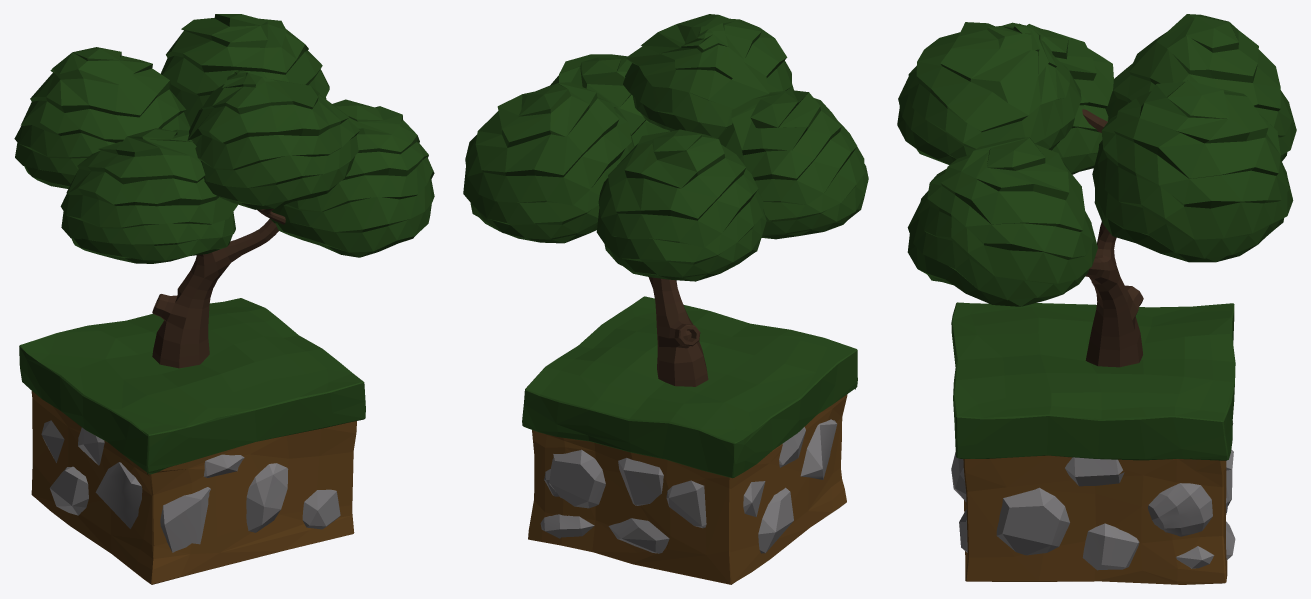
Rendered from tile_tree.gltf.
3 views of the same model, side by side, from view 1: azimuth 30°, elevation 25°; view 2: azimuth 150°, elevation 25°; view 3: azimuth 270°, elevation 25° (orthographic). The views are drawn at different scales.
Parts seen in each view (by area): view 1: Cube.003, hill.003; view 2: Cube.003, hill.003; view 3: Cube.003, hill.003.
Part boxes in pixels (left/top/right/bottom): Cube.003: left=14, top=14, right=434, bottom=368; hill.003: left=19, top=298, right=365, bottom=584; Cube.003: left=463, top=14, right=868, bottom=386; hill.003: left=522, top=296, right=857, bottom=584; Cube.003: left=897, top=14, right=1296, bottom=367; hill.003: left=951, top=302, right=1235, bottom=584.
Size of the model in its own units: 1.62 by 2.18 by 1.53.
